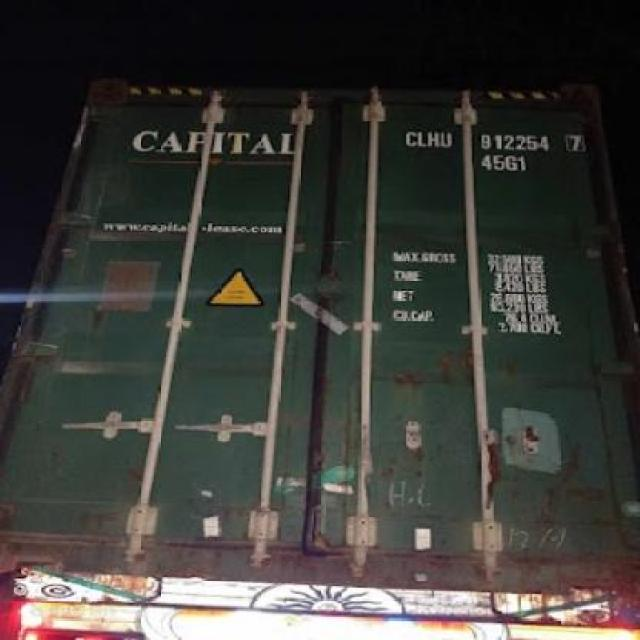ISO: (481, 152, 528, 172)
container_number: (408, 127, 582, 152)
